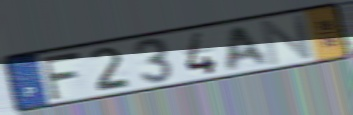2: (91, 45, 134, 95)
3: (134, 36, 174, 87)
4: (184, 30, 219, 76)
A: (225, 23, 272, 73)
F: (39, 49, 83, 102)
N: (258, 12, 316, 68)
